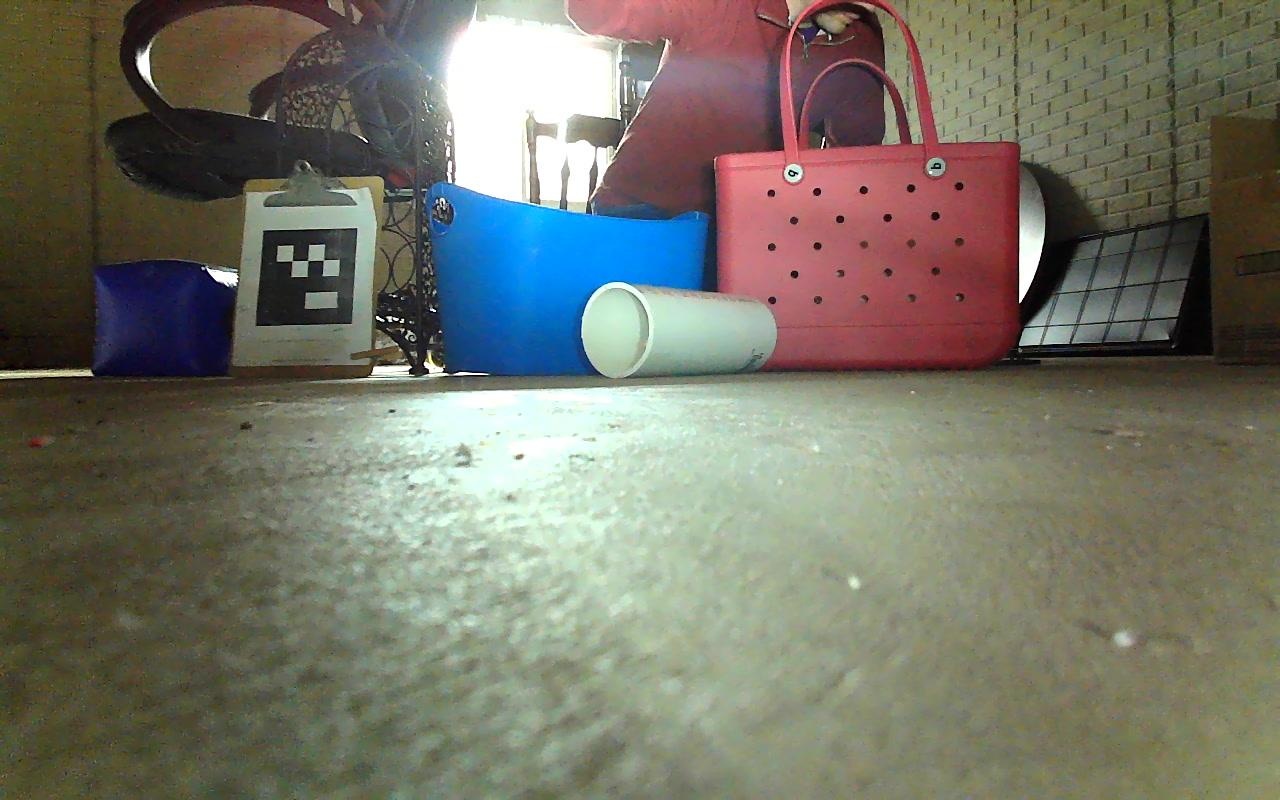coral: (582, 282, 776, 376)
